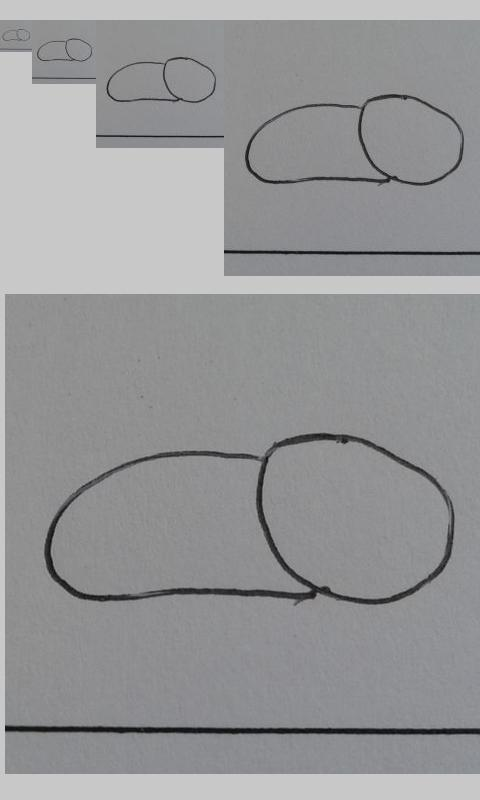switch: (42, 431, 457, 606), (244, 94, 465, 186), (105, 57, 217, 103), (36, 38, 93, 62), (2, 28, 31, 42)
